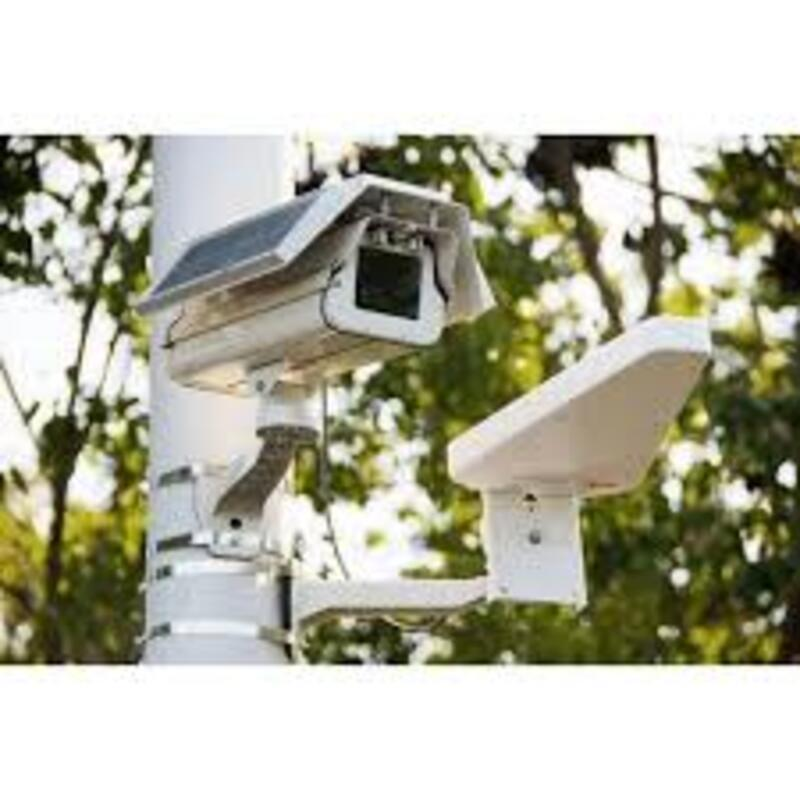box: (144, 291, 460, 431)
